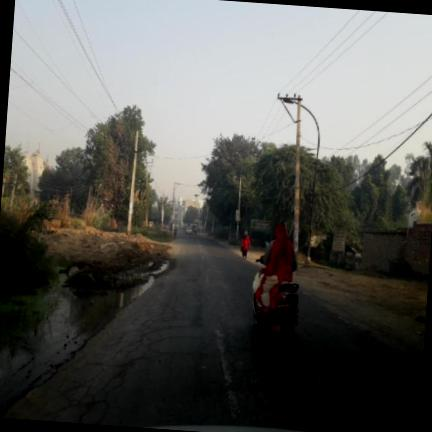Road: (5, 234, 421, 431)
